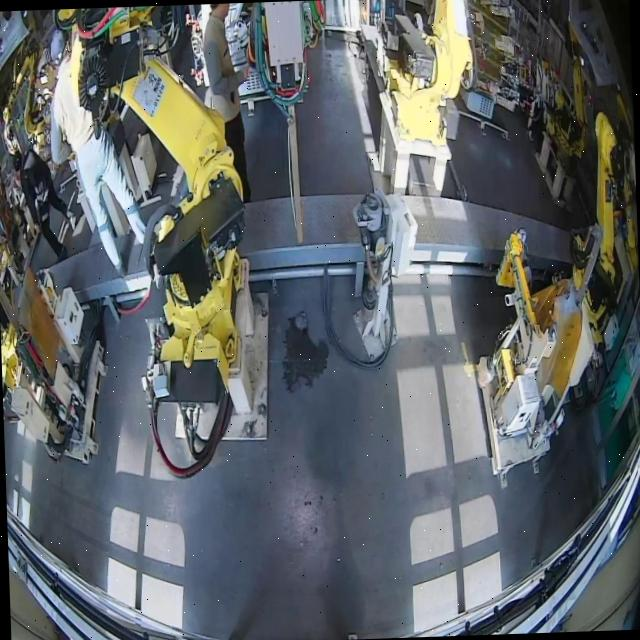Person: (46, 24, 150, 278), (200, 2, 253, 204), (12, 146, 78, 263)
